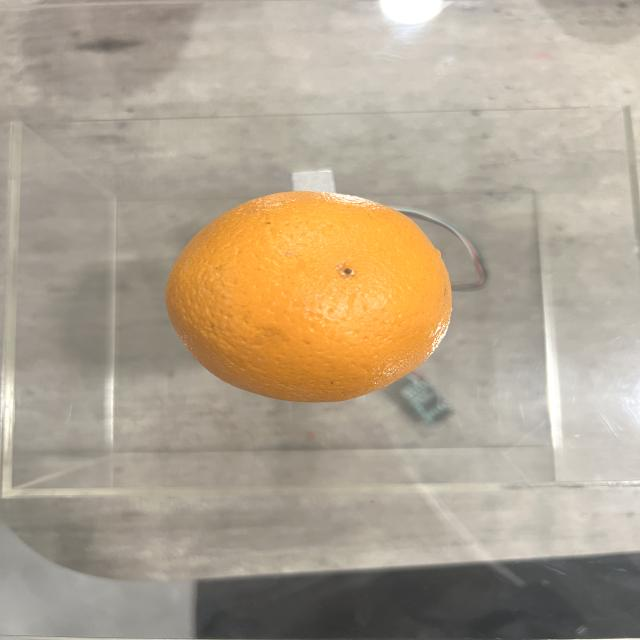orange: (159, 189, 456, 402)
